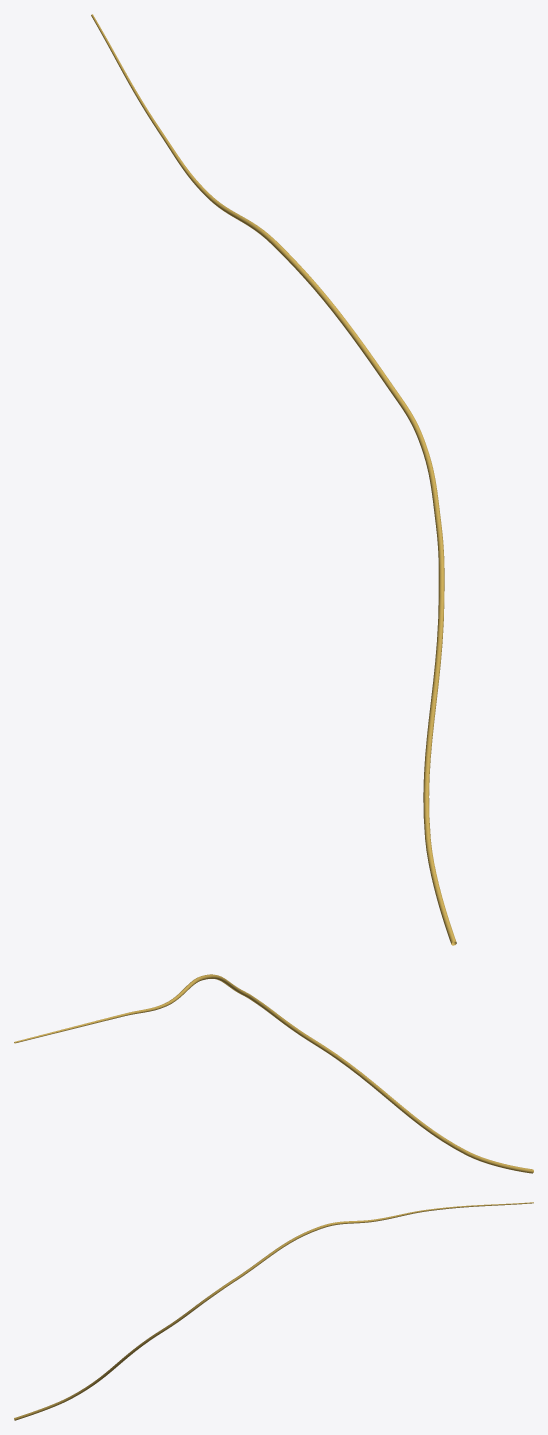
3 views of the same model, one above another, from view 1: azimuth 30°, elevation 25°; view 2: azimuth 150°, elevation 25°; view 3: azimuth 270°, elevation 25° (orthographic). The views are drawn at different scales.
Parts seen in each view (by area): view 1: 左侧肩胛背神经; view 2: 左侧肩胛背神经; view 3: 左侧肩胛背神经.
Boxes of the visible parts, bbox=[...] form: 左侧肩胛背神经: bbox=[91, 14, 456, 945]; 左侧肩胛背神经: bbox=[14, 974, 533, 1173]; 左侧肩胛背神经: bbox=[14, 1202, 533, 1420].
Size of the model in its own units: 0.0489 by 0.1435 by 0.2636.
